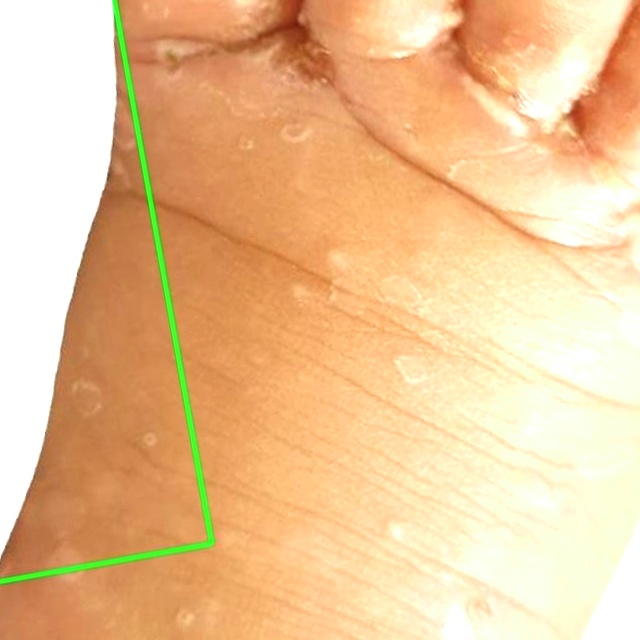Scabies: (0, 0, 211, 581)
